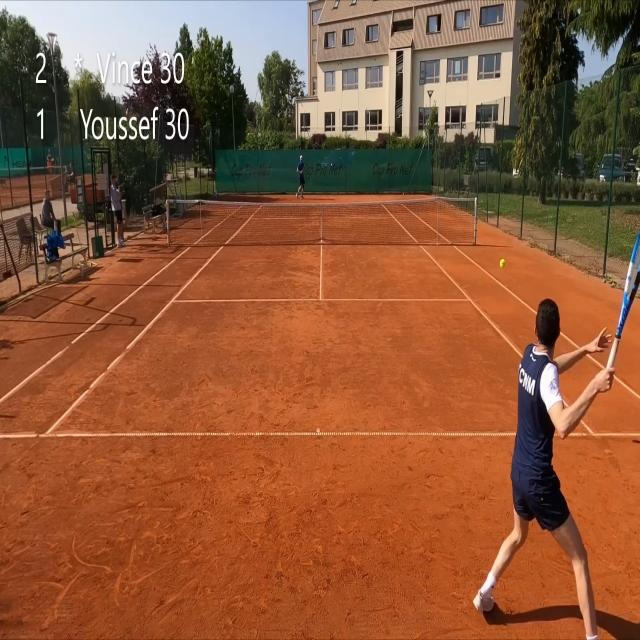ball: (500, 258, 505, 268)
